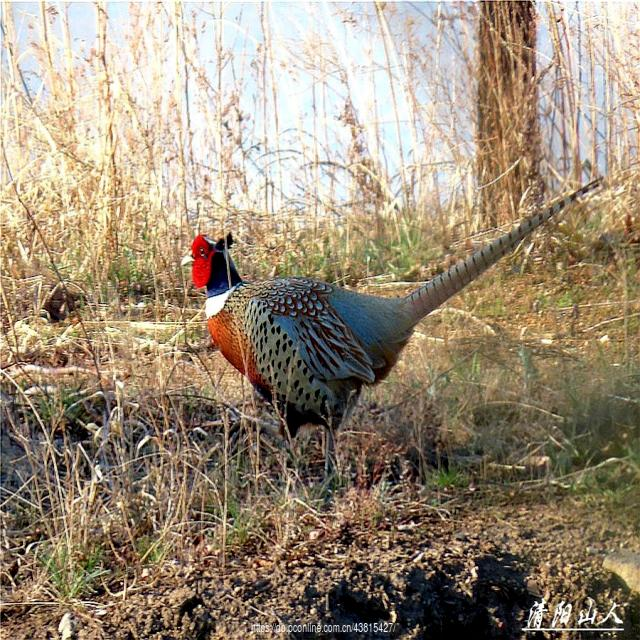Phasianus Colchicus: (405, 173, 609, 322)
